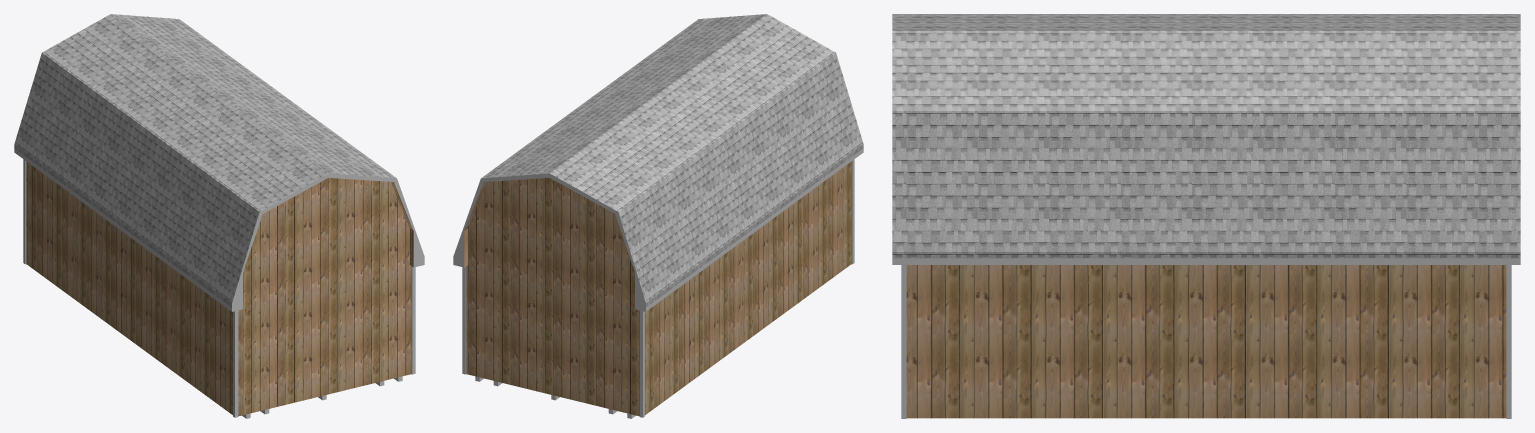
The model's file is Two Story Gambrel_14x28.obj.
The picture shows the model from 3 angles, left to right: view 1: azimuth 30°, elevation 25°; view 2: azimuth 150°, elevation 25°; view 3: azimuth 270°, elevation 25°; orthographic projection. The views are drawn at different scales.
Visible parts, largest first — view 1: Shed, Roof, Sides, Trim; view 2: Shed, Roof, Sides, Trim; view 3: Roof, Shed, Sides, Trim.
Part boxes in pixels (<box>): Shed: <box>26,161,413,416</box>; Roof: <box>14,14,396,306</box>; Sides: <box>14,148,424,311</box>; Trim: <box>23,159,415,417</box>; Shed: <box>464,161,851,416</box>; Roof: <box>481,14,863,306</box>; Sides: <box>453,148,863,311</box>; Trim: <box>462,159,854,417</box>; Roof: <box>892,14,1520,258</box>; Shed: <box>906,265,1506,418</box>; Sides: <box>892,258,1520,264</box>; Trim: <box>901,265,1511,418</box>.
Size of the model in its own units: 4.51 by 5.14 by 8.84.
